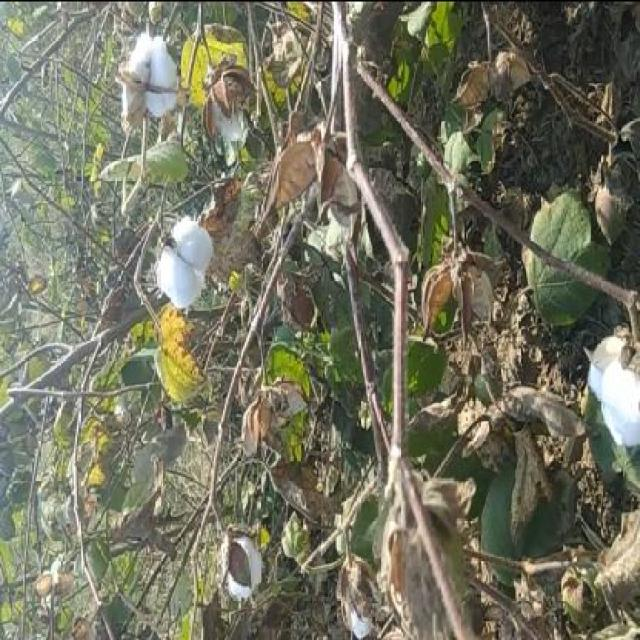cotton_ready: (107, 24, 199, 171), (156, 190, 227, 316), (588, 316, 638, 464), (221, 509, 270, 605)
